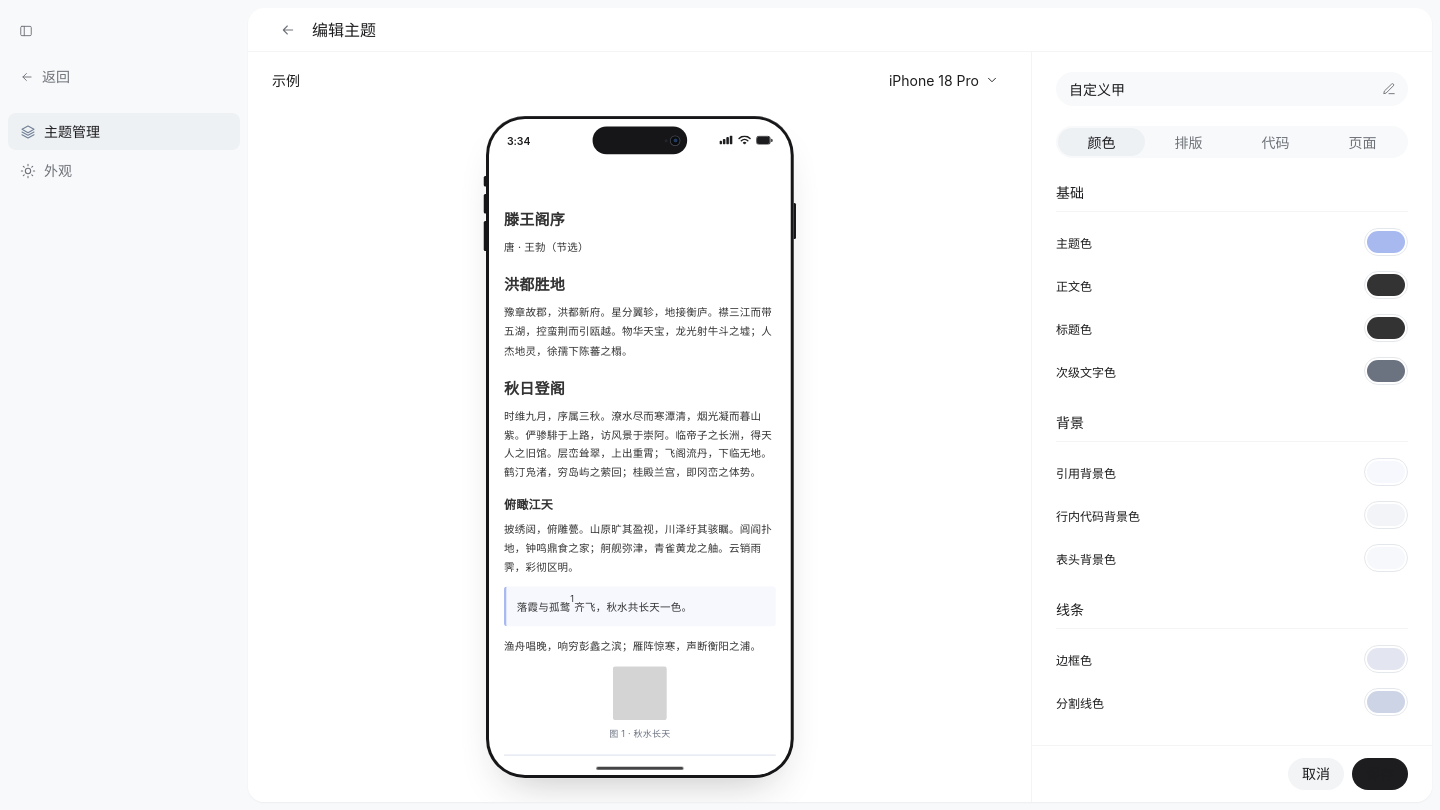
it: 主题编辑器：编辑与取消 › 没有修改时取消直接回到列表
This screenshot has width=1440, height=810.
Expected: the heading "编辑主题" is shown, [312,18,376,42]
Click the button "取消" at (1316,774), box [1288,758,1344,790]
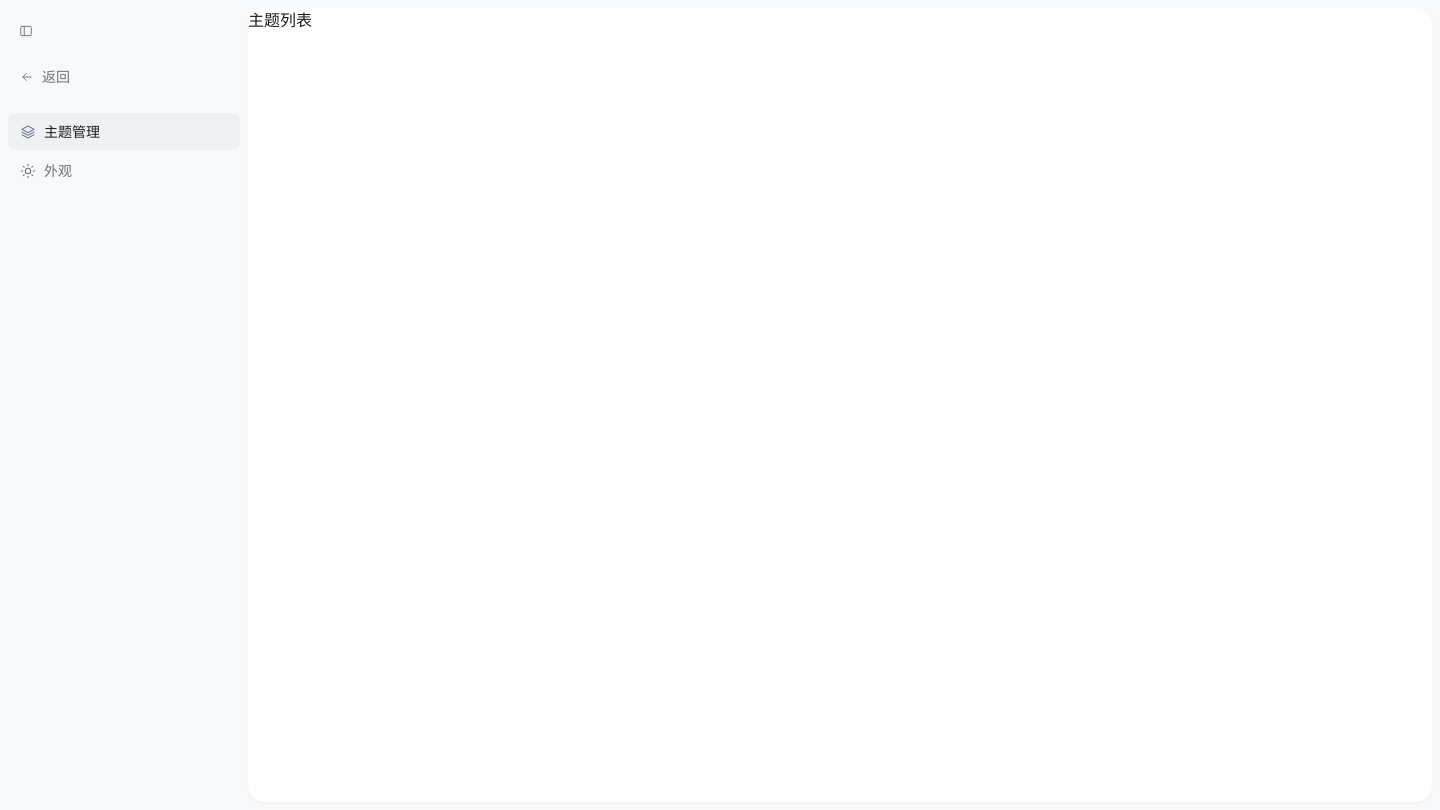
Result: the text "主题列表" is shown at [248,10,312,30]
